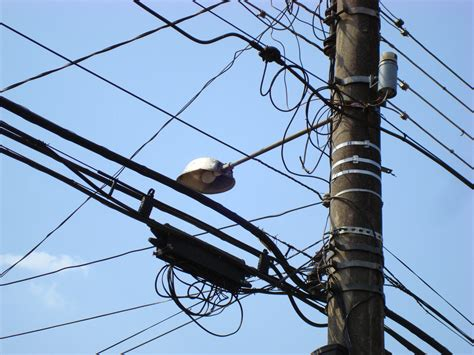pole: (305, 3, 448, 353)
